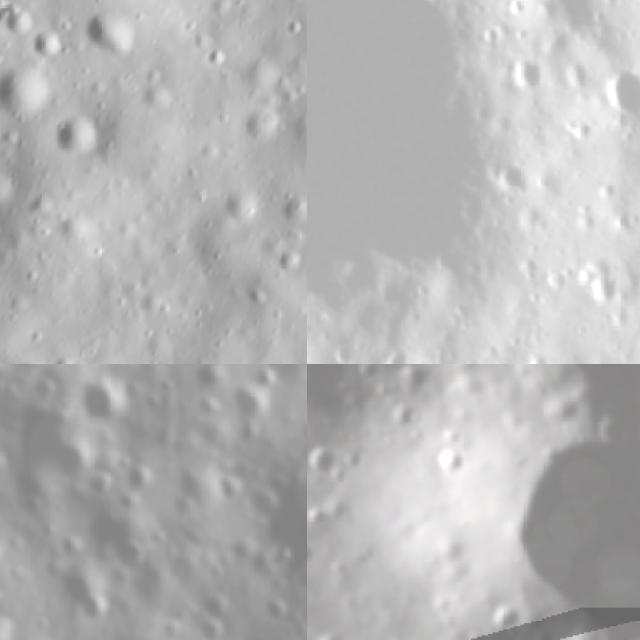crater: (307, 0, 588, 364), (8, 395, 96, 484), (242, 456, 307, 576), (70, 0, 159, 77), (40, 102, 120, 182), (0, 57, 62, 143), (582, 48, 640, 139), (570, 252, 639, 321), (547, 44, 612, 109), (496, 49, 556, 111), (486, 153, 540, 209), (53, 555, 109, 609), (77, 374, 132, 427), (103, 0, 209, 25), (226, 378, 272, 430), (565, 199, 613, 247), (558, 111, 604, 157), (468, 16, 511, 61), (603, 198, 640, 246), (109, 538, 152, 578), (0, 159, 25, 223), (69, 594, 115, 628), (208, 468, 250, 504), (257, 591, 295, 630), (312, 439, 347, 481), (120, 458, 156, 494), (375, 339, 424, 364), (80, 469, 116, 501), (517, 338, 561, 364), (501, 0, 540, 24), (326, 340, 359, 364), (295, 248, 307, 310), (198, 616, 229, 640), (522, 284, 548, 310), (0, 609, 18, 640)
